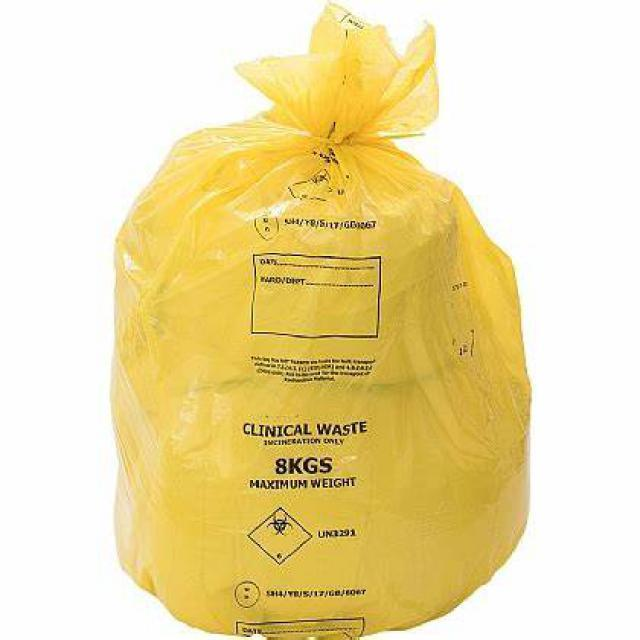waste: (94, 13, 528, 632)
